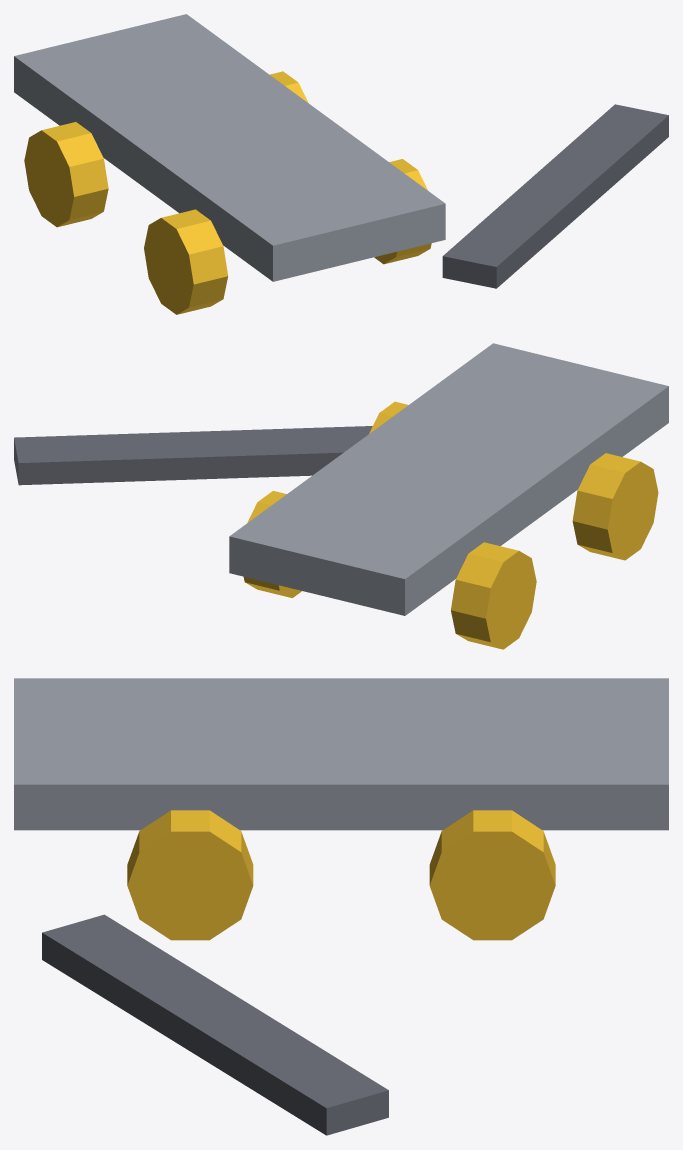
The model's file is bowl_skate_parts.glb.
3 renders of one model, top to bottom at view 1: azimuth 30°, elevation 25°; view 2: azimuth 150°, elevation 25°; view 3: azimuth 270°, elevation 25°, orthographic. The views are drawn at different scales.
Visible parts, largest first — view 1: plate_skate_plate, wrench_wrench, wheels_skate_wheel; view 2: plate_skate_plate, wrench_wrench, wheels_skate_wheel; view 3: plate_skate_plate, wheels_skate_wheel, wrench_wrench.
Boxes of the visible parts, x1,y1,x2,y2 form: plate_skate_plate: (14,14,445,281); wrench_wrench: (442,104,668,288); wheels_skate_wheel: (24,71,431,314); plate_skate_plate: (229,343,668,615); wrench_wrench: (14,426,372,485); wheels_skate_wheel: (243,401,658,649); plate_skate_plate: (14,678,668,830); wheels_skate_wheel: (127,810,555,940); wrench_wrench: (42,914,388,1135).
Size of the model in its own units: 0.321 by 0.06 by 0.26.
